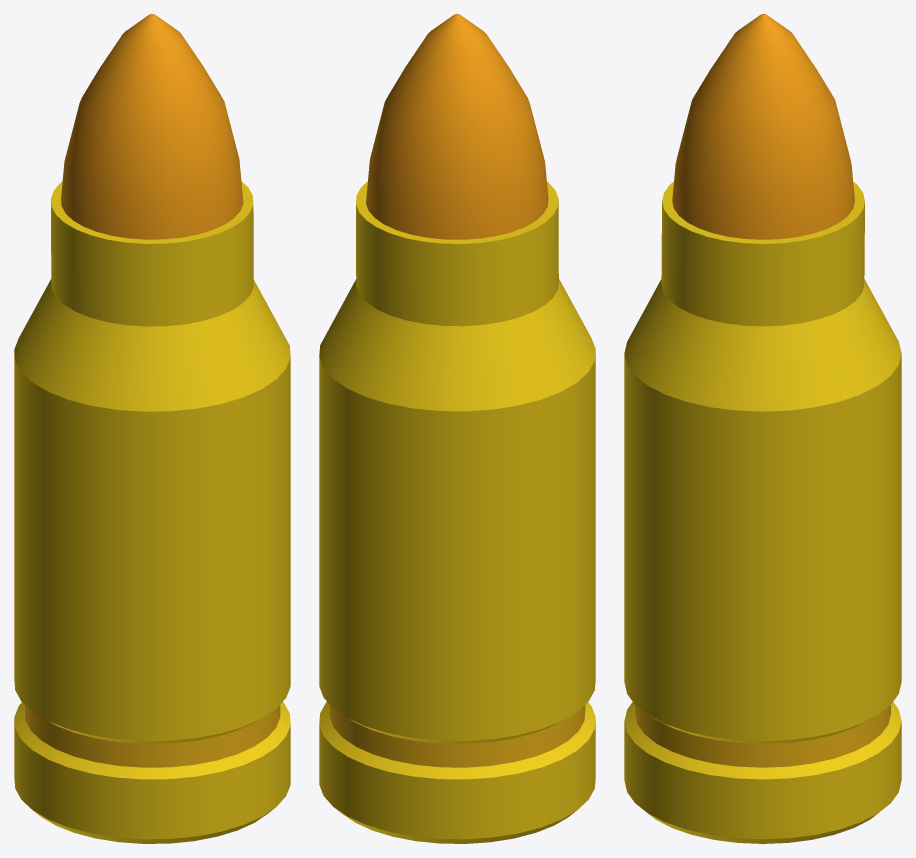
Rendered from Bullet.fbx.
3 views of the same model, side by side, from view 1: azimuth 30°, elevation 25°; view 2: azimuth 150°, elevation 25°; view 3: azimuth 270°, elevation 25° (orthographic).
Visible parts, largest first — view 1: Bullet; view 2: Bullet; view 3: Bullet.
Boxes of the visible parts, x1,y1,x2,y2 form: Bullet: (14,14,290,843); Bullet: (319,14,595,843); Bullet: (624,14,901,843).
Bounding box in the file's own units: 0.1414 × 0.4363 × 0.1414.
